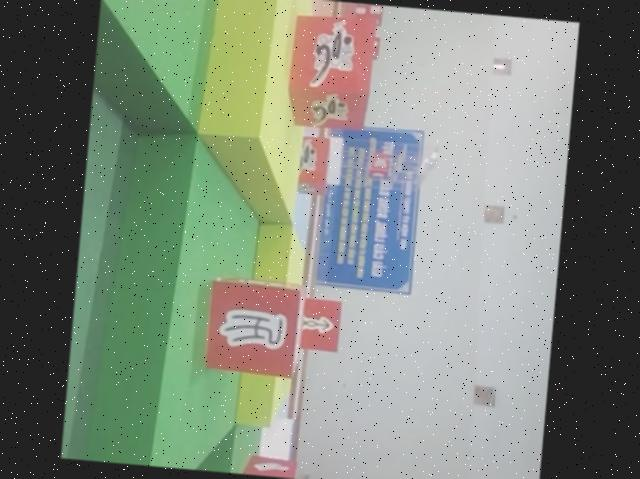R1: (284, 8, 379, 134)
R2 Fake: (201, 275, 303, 381)
R2 Real: (292, 293, 344, 354), (238, 450, 300, 478)
